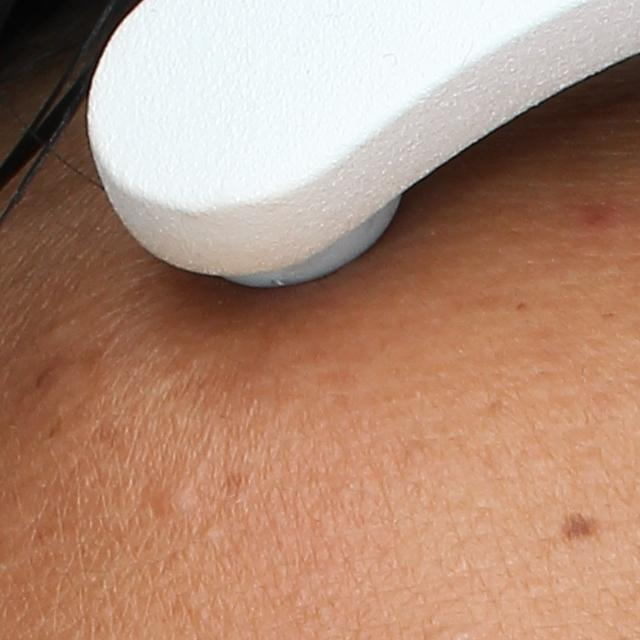comedo: (149, 482, 199, 523), (198, 520, 218, 541)
nevus: (554, 511, 606, 545)
